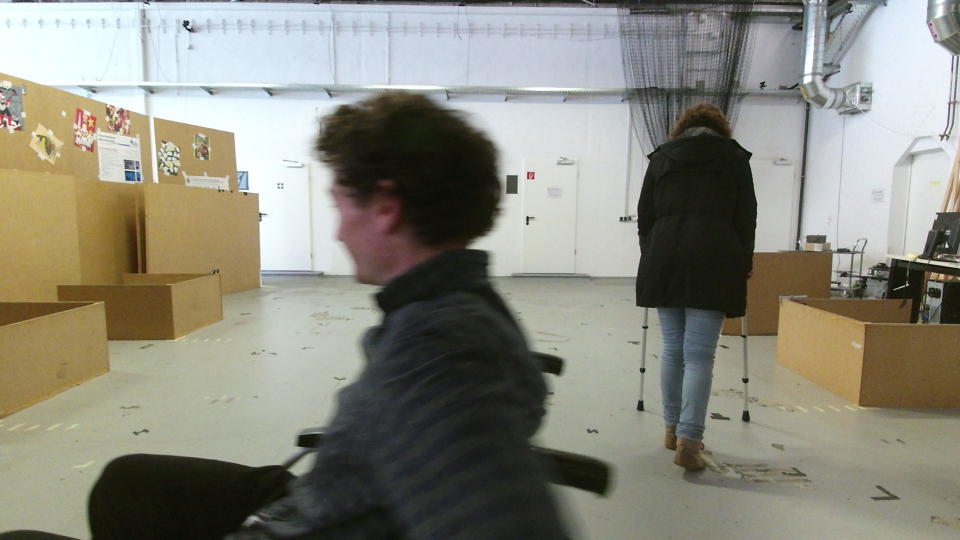crutches: (619, 91, 759, 470)
